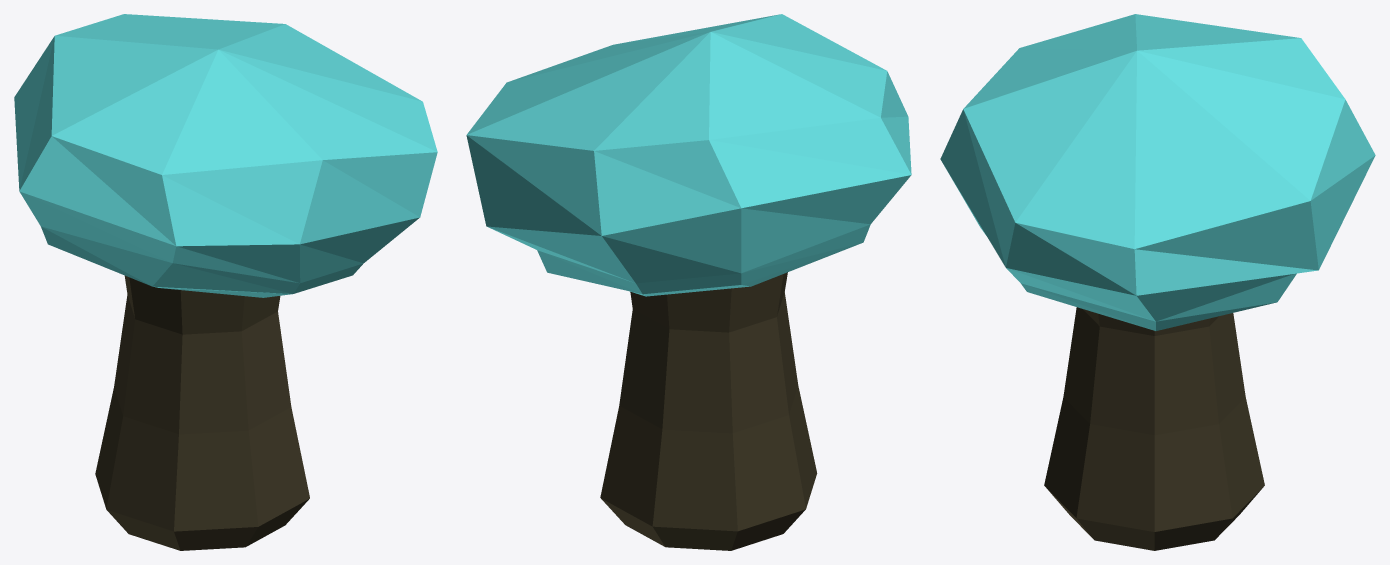
The model's file is MiniChampi4.FBX.
3 renders of one model, left to right at view 1: azimuth 30°, elevation 25°; view 2: azimuth 150°, elevation 25°; view 3: azimuth 270°, elevation 25°, orthographic.
Parts seen in each view (by area): view 1: Sphere003, Cylinder004; view 2: Sphere003, Cylinder004; view 3: Sphere003, Cylinder004.
Boxes of the visible parts, x1=… form: Sphere003: x1=14, y1=14, x2=437, y2=297; Cylinder004: x1=95, y1=275, x2=309, y2=550; Sphere003: x1=466, y1=14, x2=911, y2=296; Cylinder004: x1=600, y1=272, x2=817, y2=550; Sphere003: x1=940, y1=14, x2=1375, y2=330; Cylinder004: x1=1044, y1=307, x2=1264, y2=550.
Size of the model in its own units: 0.1251 by 0.1414 by 0.1153.
